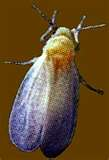whitefly: (1, 1, 105, 158)
